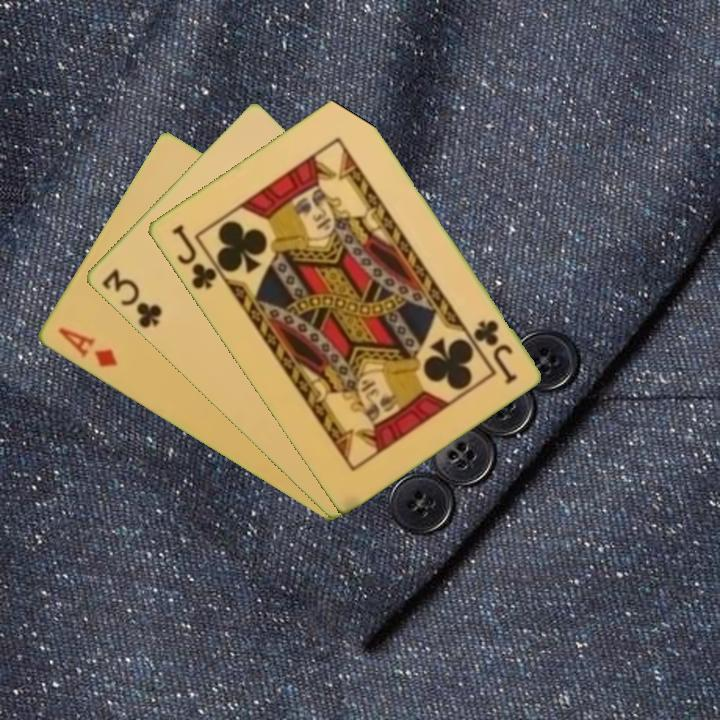3c: (98, 265, 165, 332)
Ad: (54, 323, 120, 371)
Jc: (167, 220, 220, 292), (469, 316, 520, 387)
